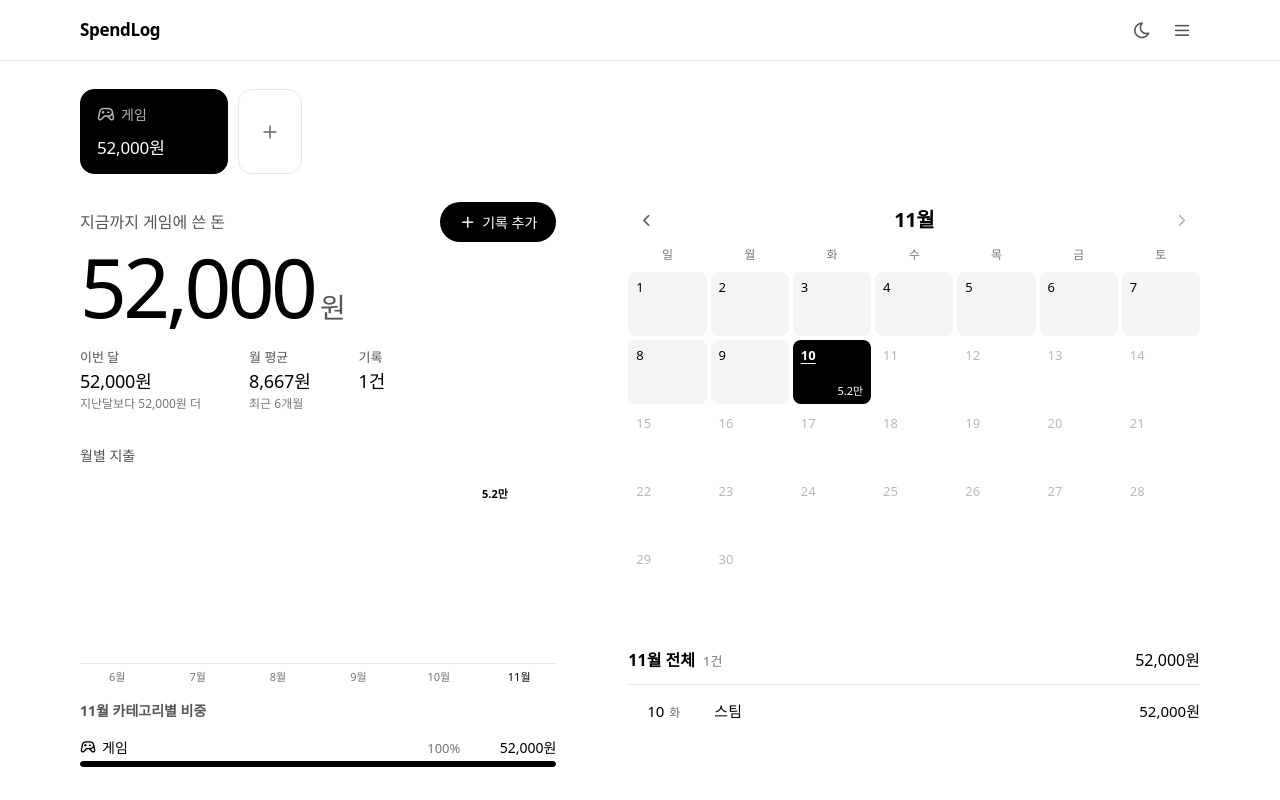
Test: App when the change succeeds but reloading fails › closes the category manager after updating a category
Check: the button with aria-label "스팀 수정" is shown, box top-left (620, 689), bottom-right (1208, 732)
Step 1. Click the button named "메뉴" → (1182, 30), box top-left (1164, 12), bottom-right (1200, 48)
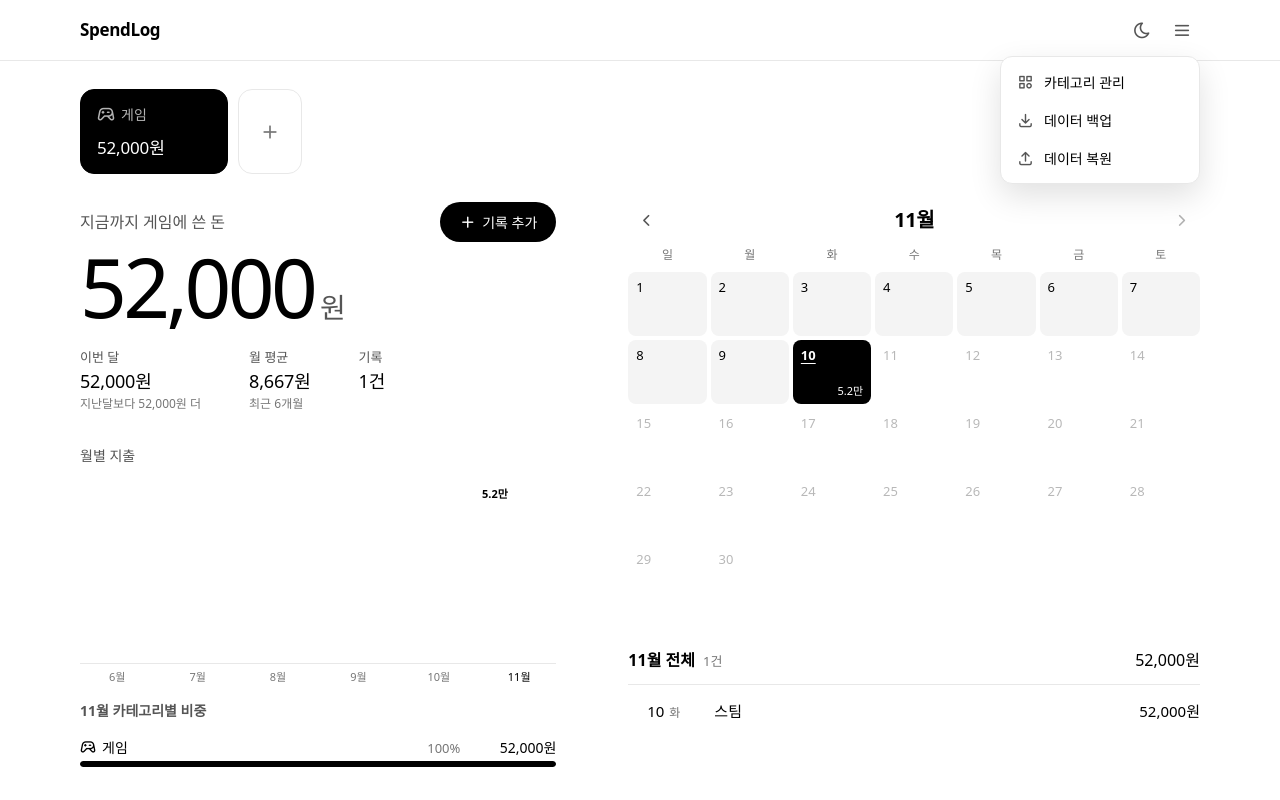
Step 2. Click the menu item "카테고리 관리" → (1100, 82), box top-left (1007, 63), bottom-right (1193, 101)
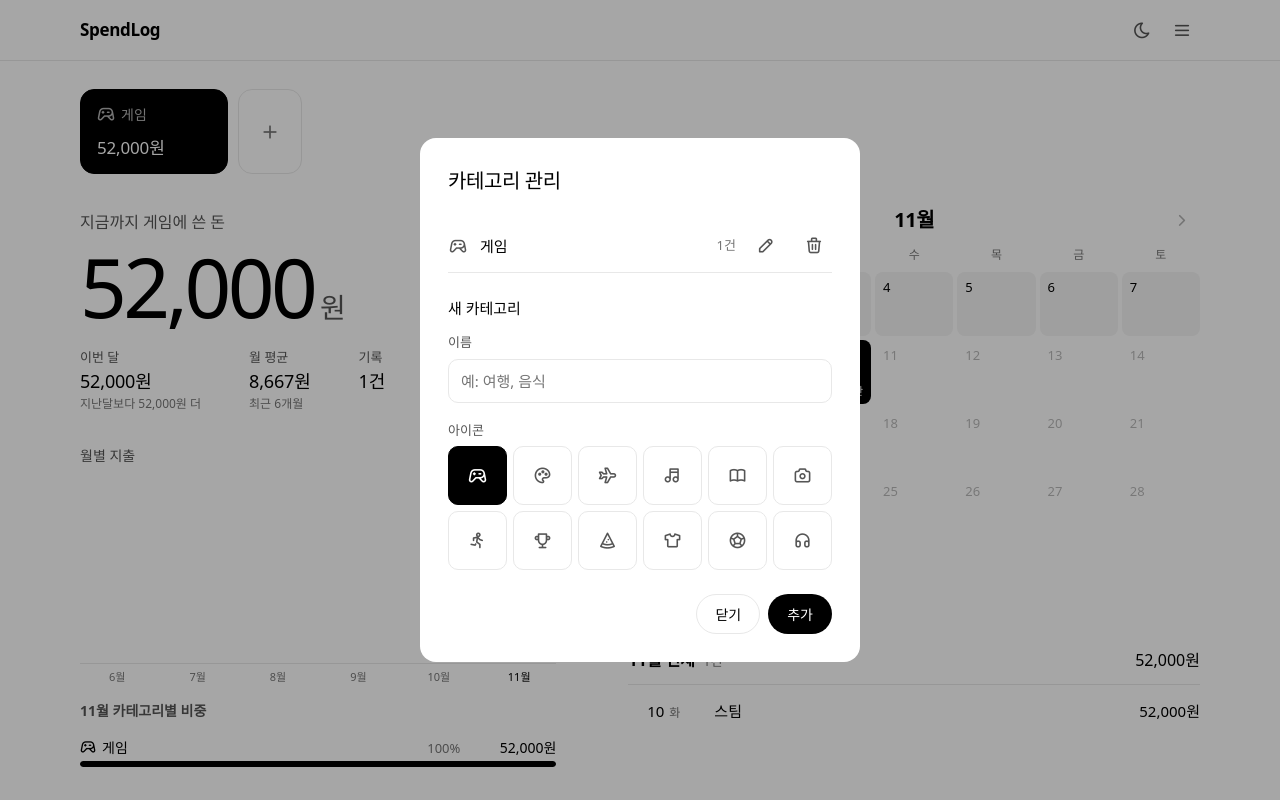
Step 3. Click the button named "게임 수정" → (766, 246), box top-left (748, 228), bottom-right (784, 264)
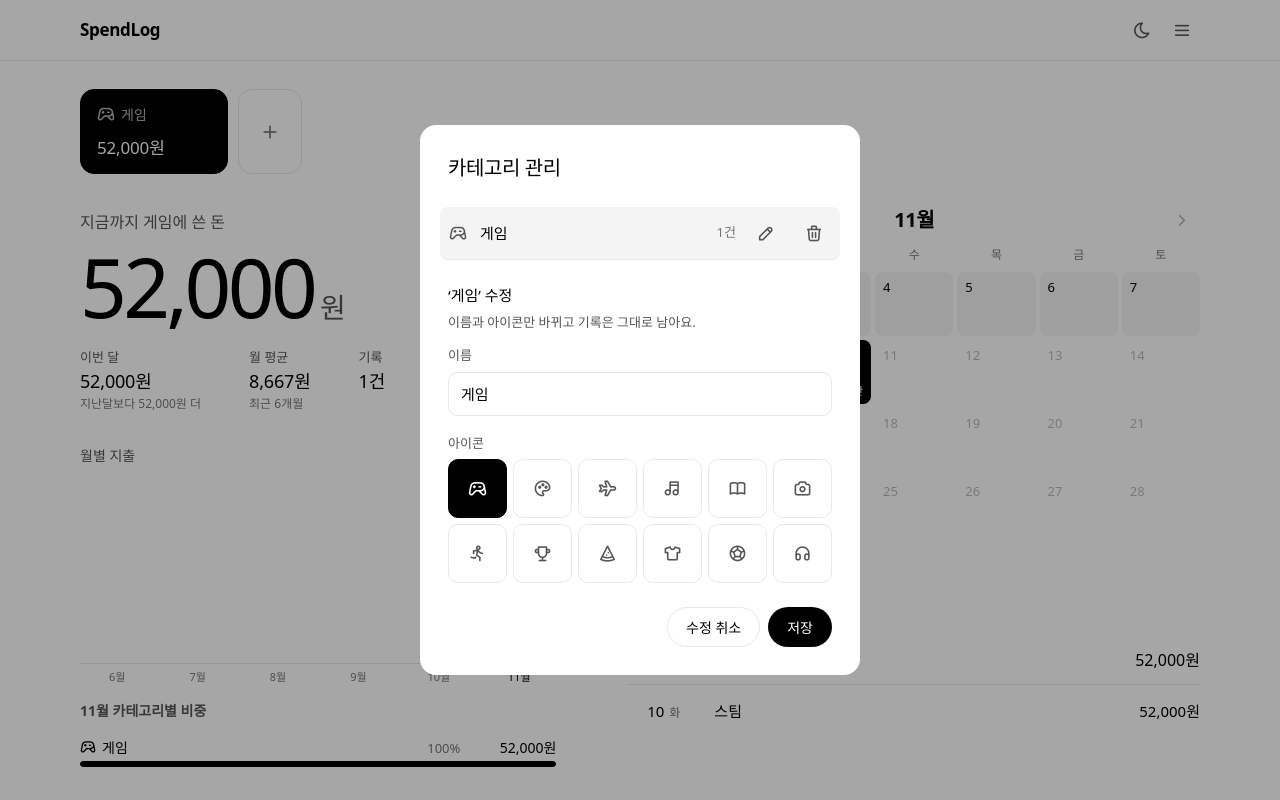
Step 4. Replace the text in the field labelled "이름" with "게임기" → (640, 394), box top-left (448, 372), bottom-right (832, 416)
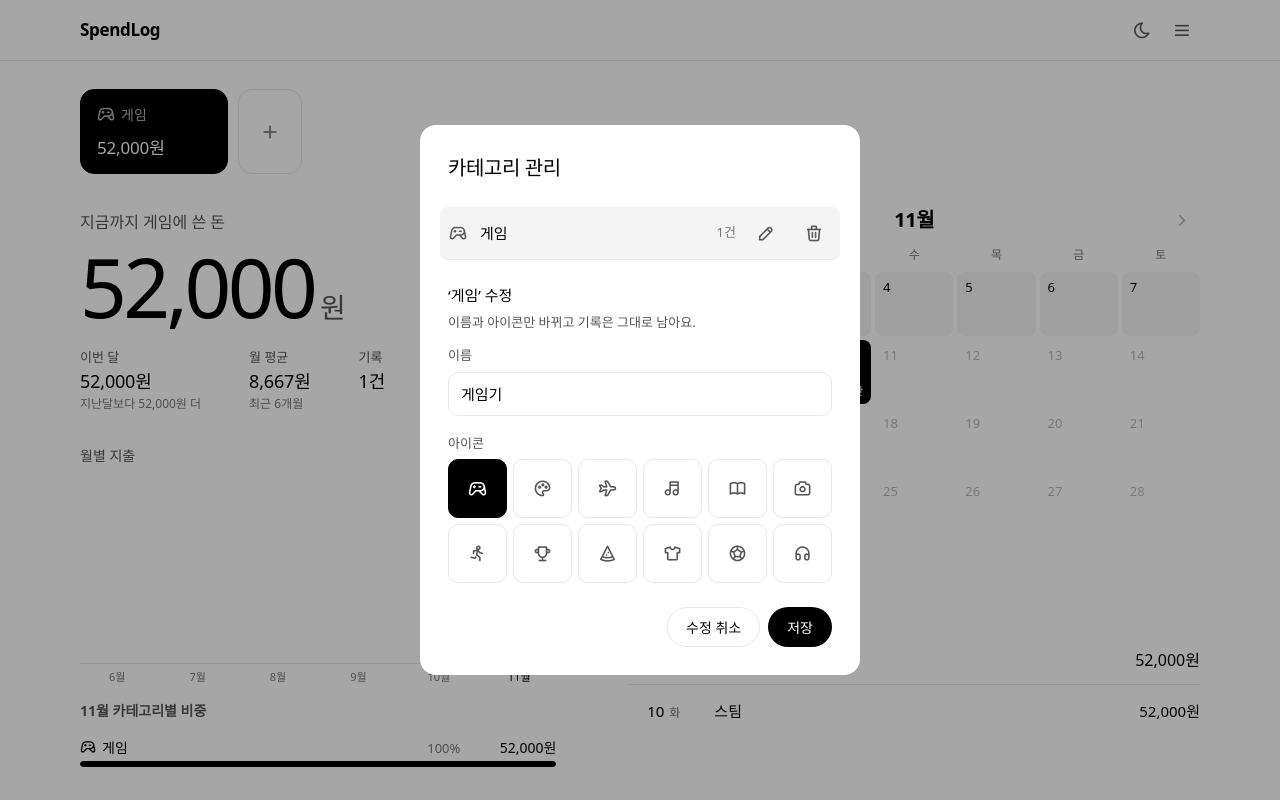
Step 5. Click the button "저장" → (800, 627), box top-left (768, 607), bottom-right (832, 647)
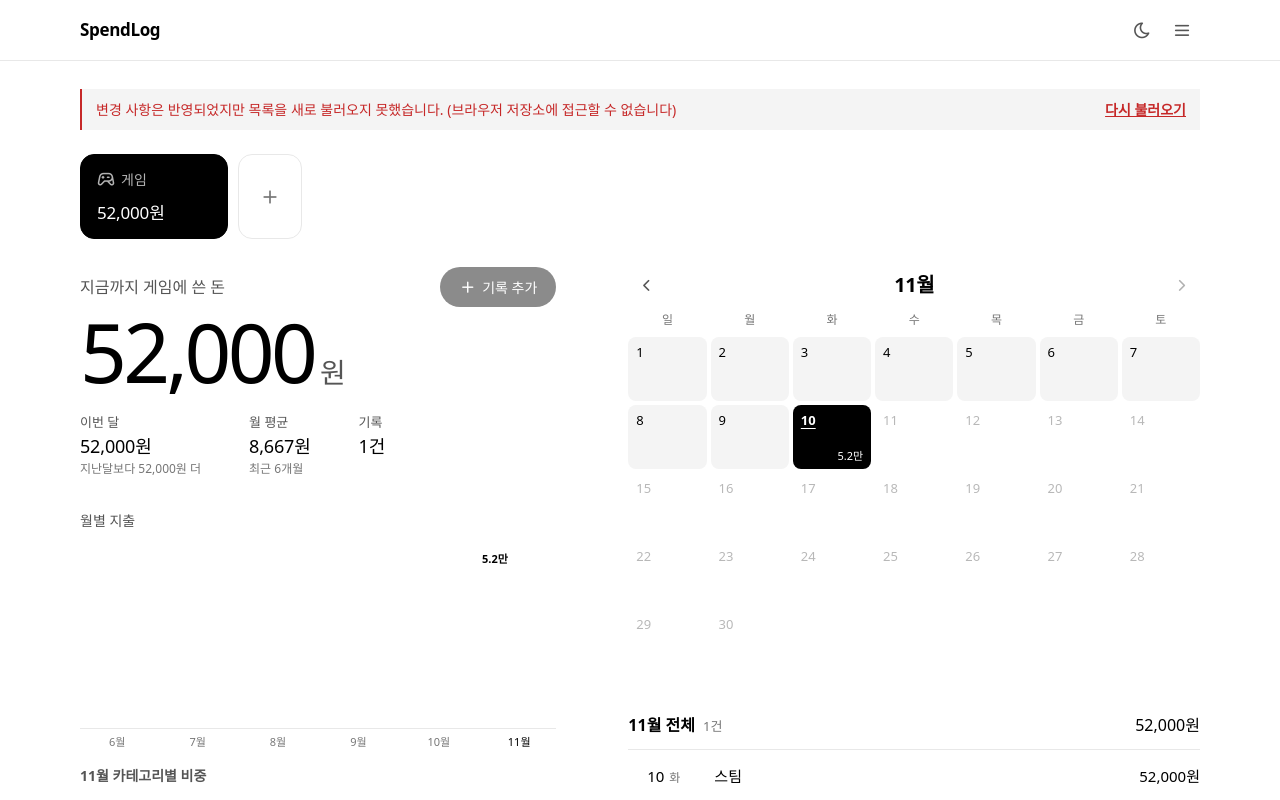
Check: the dialog is gone
Check: the text "변경 사항은 반영되었지만 목록을 새로 불러오지 못했습니다. (브라우저 저장소에 접근할 수 없습니다) 다시 불러오기" is shown, box top-left (80, 89), bottom-right (1200, 130)
Check: the button "기록 추가" is disabled, box top-left (440, 267), bottom-right (556, 307)
Step 6. Click the button "다시 불러오기" → (1146, 110), box top-left (1105, 102), bottom-right (1186, 116)
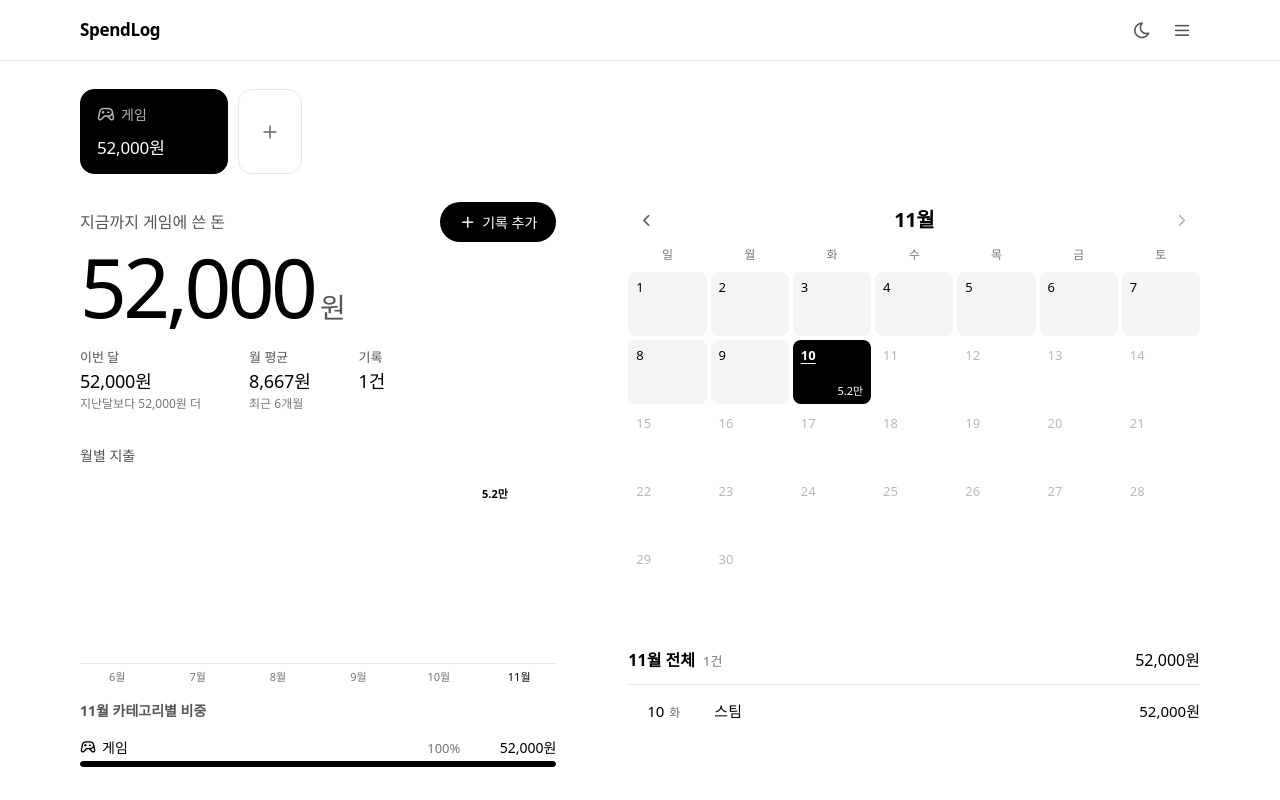
Check: the text "변경 사항은 반영되었지만 목록을 새로 불러오지 못했습니다" is gone
Check: the button "기록 추가" is enabled, box top-left (440, 202), bottom-right (556, 242)
